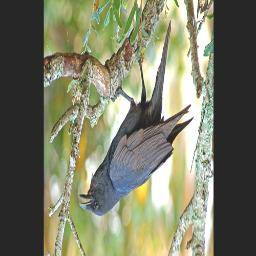Crow: (78, 18, 195, 217)
